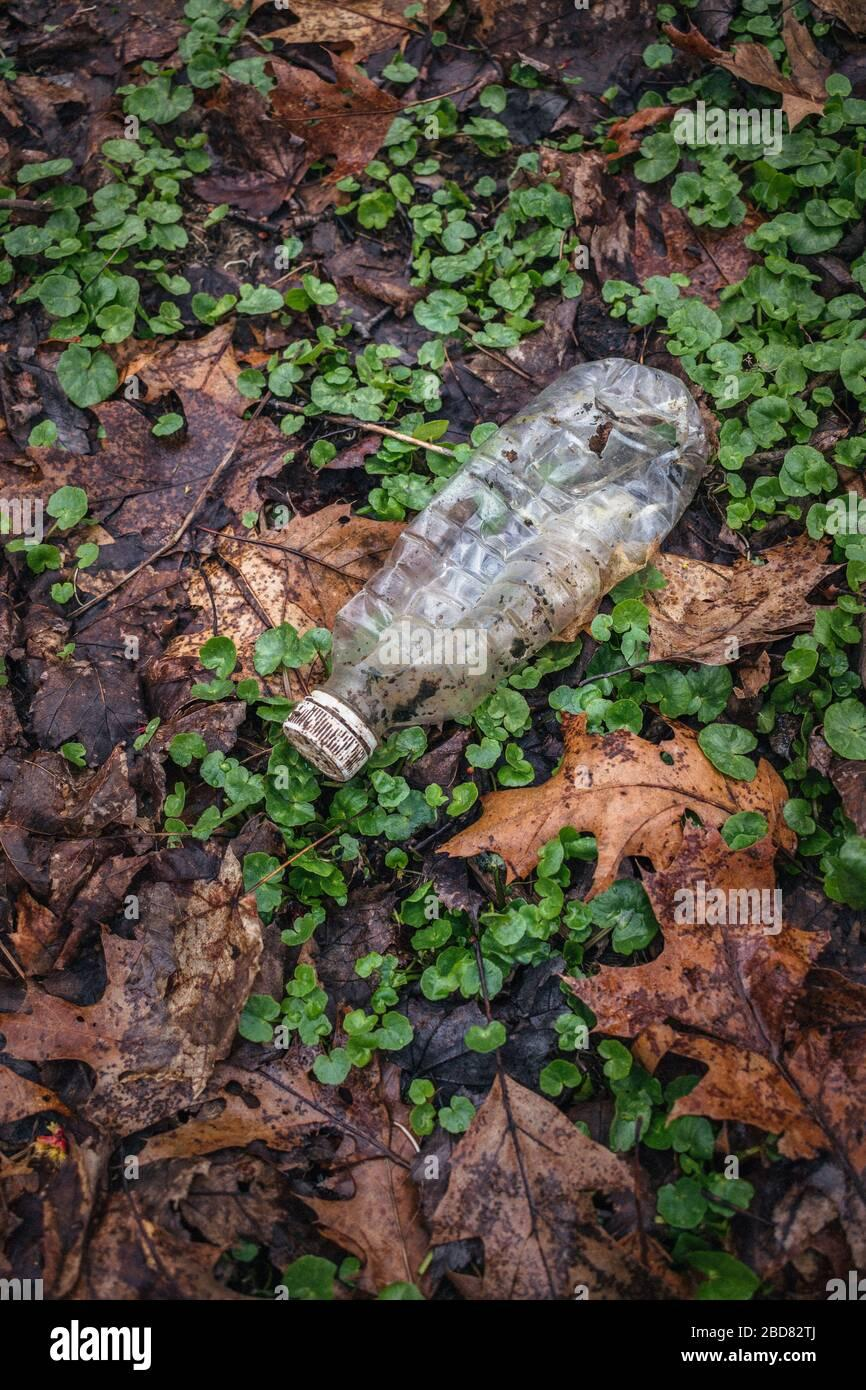bottle: (231, 323, 730, 823)
